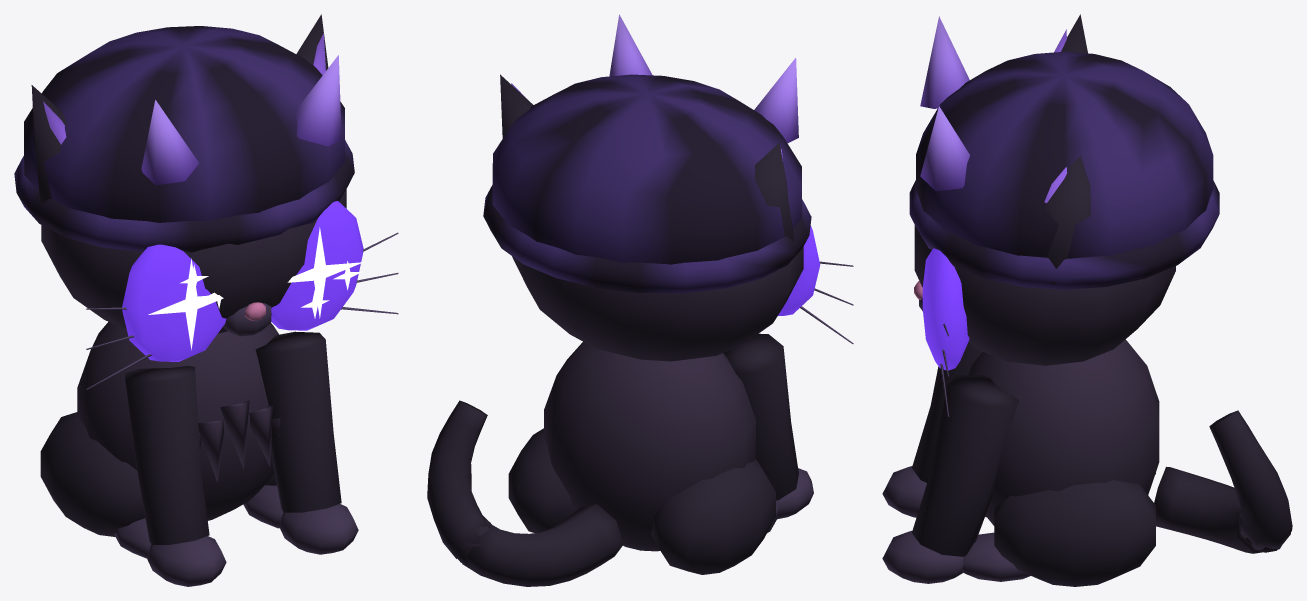
The model's file is art-nyxbean.glb.
The picture shows the model from 3 angles, left to right: view 1: azimuth 30°, elevation 25°; view 2: azimuth 150°, elevation 25°; view 3: azimuth 270°, elevation 25°; orthographic projection. The views are drawn at different scales.
Parts seen in each view (by area): view 1: beanie, body, arm_R, arm_L, head, eye_R, eye_L, horn_R, horn_L, ear_R, ear_L; view 2: beanie, body, head, tail_0, arm_R, tail_1, horn_R, ear_R, eye_R, horn_L, ear_L; view 3: beanie, body, head, arm_L, tail_1, tail_0, eye_L, arm_R, ear_L, horn_L, horn_R, ear_R.
Boxes of the visible parts, x1,y1,x2,y2 form: beanie: (14, 26, 354, 252); body: (40, 321, 283, 558); arm_R: (124, 366, 226, 586); arm_L: (255, 331, 358, 554); head: (41, 189, 398, 389); eye_R: (122, 244, 226, 361); eye_L: (271, 201, 363, 330); horn_R: (141, 100, 199, 185); horn_L: (295, 55, 341, 146); ear_R: (31, 85, 66, 221); ear_L: (296, 14, 328, 75); beanie: (483, 74, 811, 293); body: (508, 342, 778, 574); head: (512, 247, 853, 361); tail_0: (451, 504, 623, 586); arm_R: (723, 333, 813, 519); tail_1: (427, 400, 490, 558); horn_R: (754, 58, 798, 143); ear_R: (754, 142, 795, 255); eye_R: (778, 225, 820, 315); horn_L: (609, 14, 652, 76); ear_L: (500, 74, 533, 138); beanie: (909, 51, 1219, 289); body: (962, 339, 1159, 586); head: (914, 225, 1175, 416); arm_L: (882, 375, 1019, 583); tail_1: (1209, 410, 1292, 549); tail_0: (1154, 466, 1290, 553); eye_L: (922, 248, 969, 370); arm_R: (882, 342, 982, 517); ear_L: (1044, 156, 1090, 284); horn_L: (920, 106, 969, 191); horn_R: (920, 16, 969, 108); ear_R: (1054, 14, 1087, 53).
Size of the model in its own units: 0.3405 by 0.504 by 0.3858.
